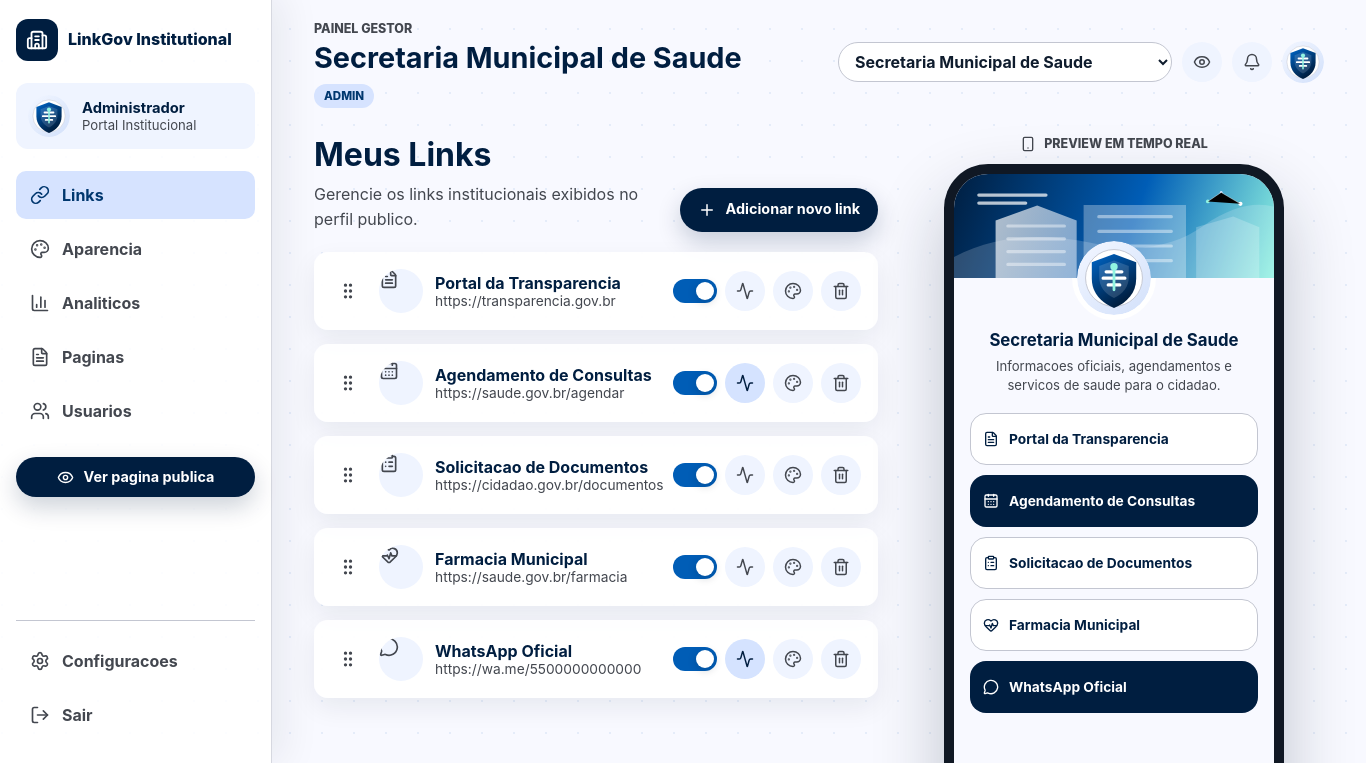
Scenario: App critical flows › puts a newly added link in edit mode
This screenshot has width=1366, height=763.
Click the button "Adicionar novo link".
click(779, 210)  # box [680,188,878,232]
(page scrolled)
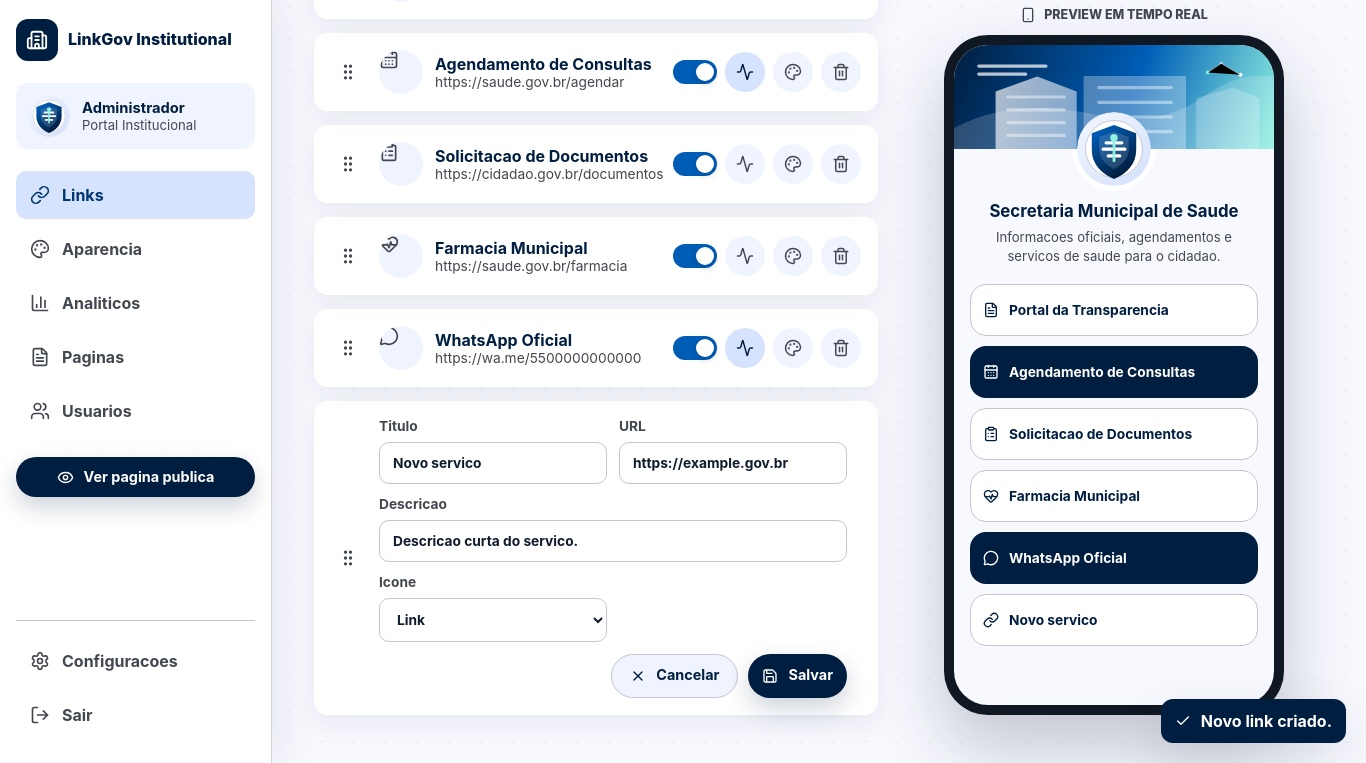
Expected: the field showing "novo servico" is shown, [379,442,607,484]
Expected: the field showing "https://example.gov.br" is shown, [619,442,847,484]
